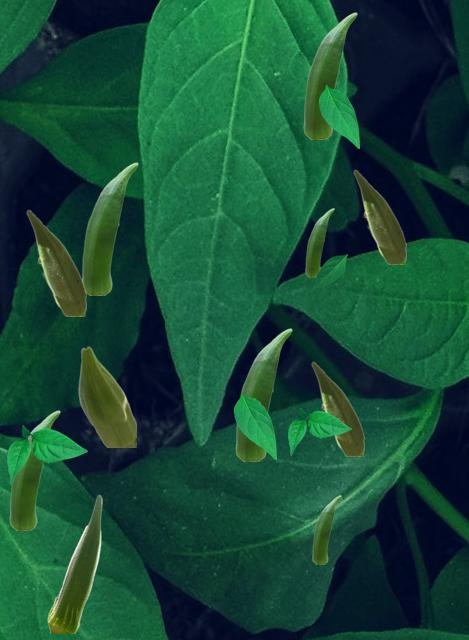okra: (47, 494, 101, 632), (235, 328, 291, 460), (82, 162, 137, 294), (303, 12, 356, 138), (26, 209, 85, 315), (9, 410, 59, 529), (78, 346, 135, 446), (353, 169, 405, 263), (311, 361, 363, 455), (305, 208, 333, 276), (312, 495, 340, 563)
